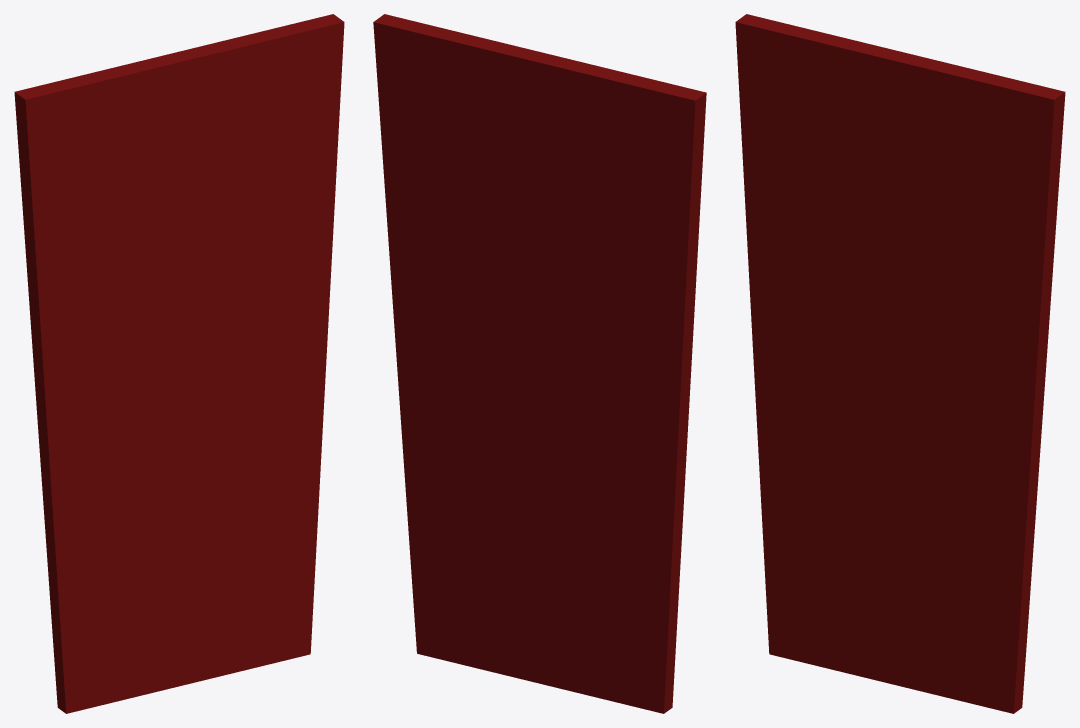
File: SM_Shutter_Gate.fbx
The picture shows the model from 3 angles, left to right: view 1: azimuth 30°, elevation 25°; view 2: azimuth 150°, elevation 25°; view 3: azimuth 330°, elevation 25°; orthographic projection.
Visible parts, largest first — view 1: SM_Shutter_Gate; view 2: SM_Shutter_Gate; view 3: SM_Shutter_Gate.
Boxes of the visible parts, <box> form: SM_Shutter_Gate: <box>14,14,344,713</box>; SM_Shutter_Gate: <box>373,14,706,713</box>; SM_Shutter_Gate: <box>735,14,1065,713</box>.
Bounding box in the file's own units: 9.98 × 18.56 × 0.7874.
